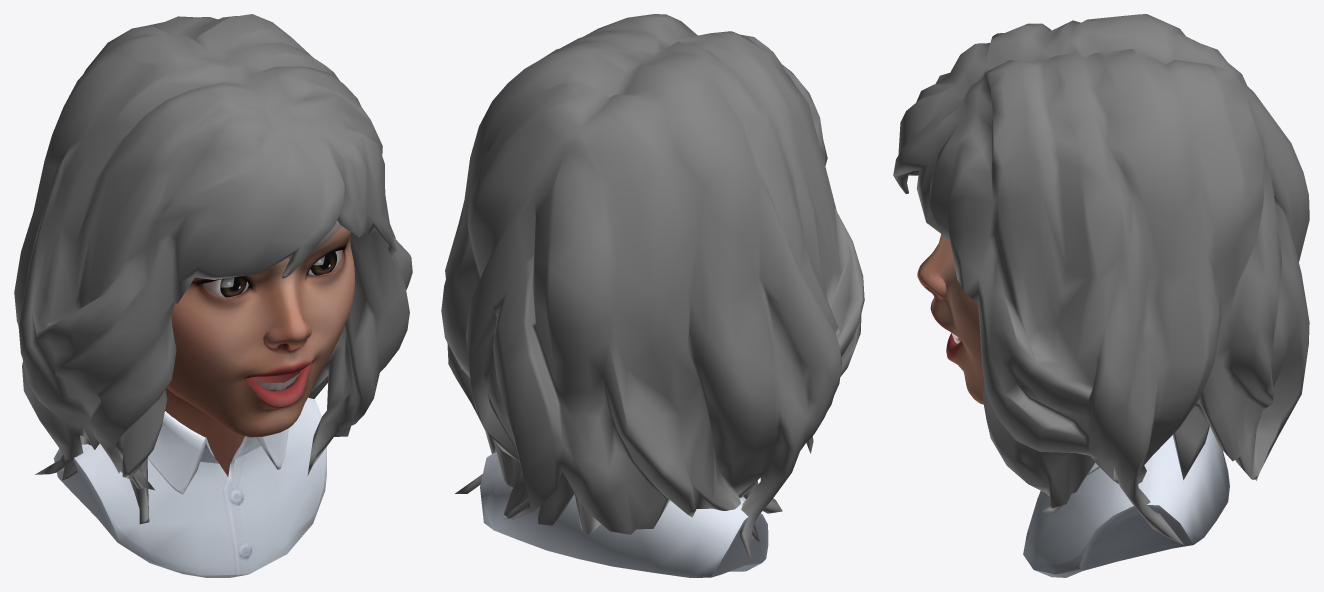
3 views of the same model, side by side, from view 1: azimuth 30°, elevation 25°; view 2: azimuth 150°, elevation 25°; view 3: azimuth 270°, elevation 25° (orthographic). The views are drawn at different scales.
Parts seen in each view (by area): view 1: Wolf3D_Avatar; view 2: Wolf3D_Avatar; view 3: Wolf3D_Avatar.
Part boxes in pixels (bbox=[...]): Wolf3D_Avatar: bbox=[14, 14, 412, 577]; Wolf3D_Avatar: bbox=[441, 14, 864, 577]; Wolf3D_Avatar: bbox=[893, 14, 1309, 577].
Size of the model in its own units: 0.2775 by 0.3677 by 0.2652.
